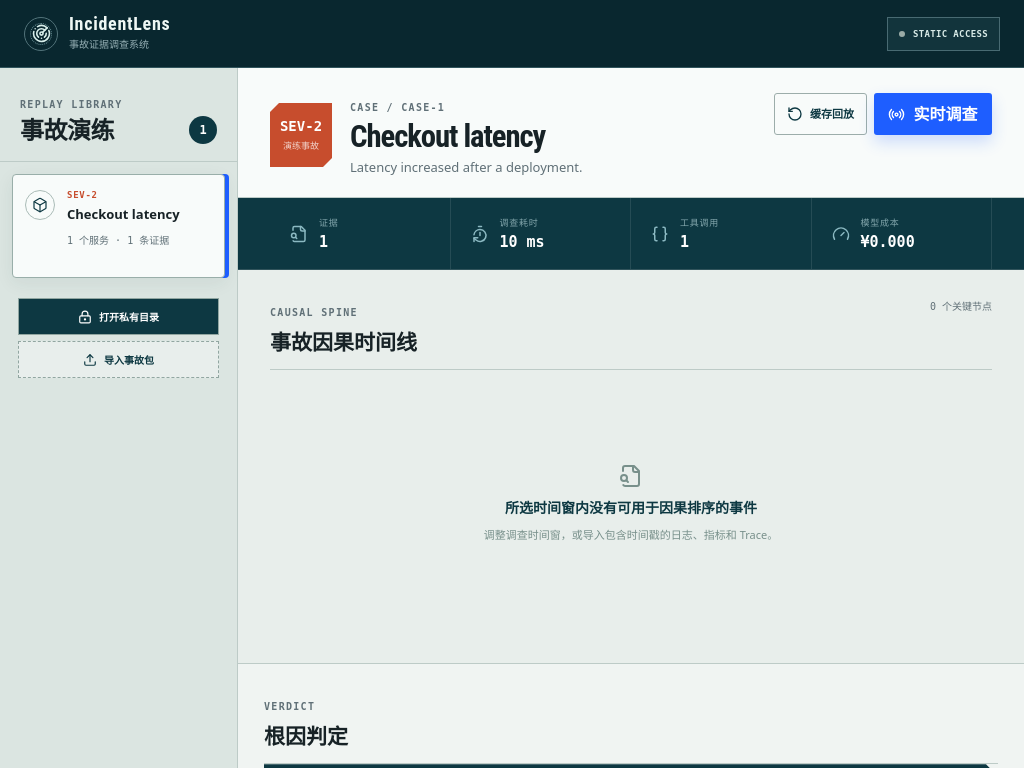
it: AppShell › loads private incidents only after an explicit catalog unlock
Expected: the heading "Checkout latency" is shown, [350, 118, 545, 155]
Expected: the text "Private production incident" is not shown
Click the button "打开私有目录".
click(118, 316)  # box [18, 298, 219, 335]
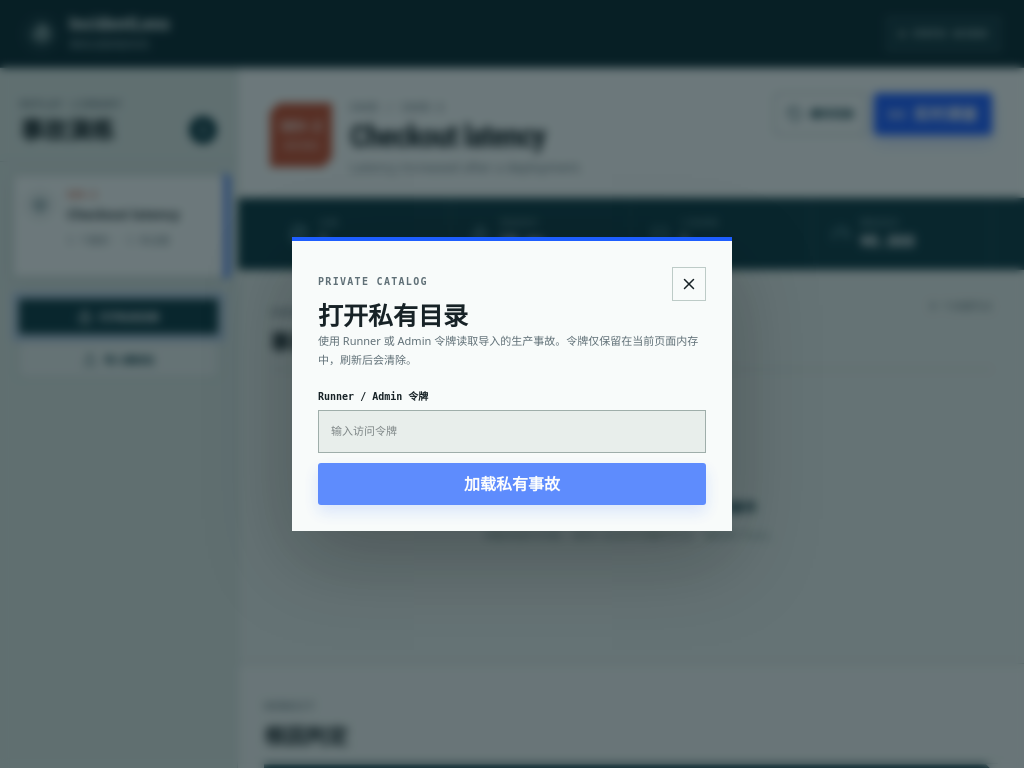
Type "runner-token" into the password field labelled "Runner / Admin 令牌".
click(512, 431); type("runner-token")  # box [318, 410, 706, 453]
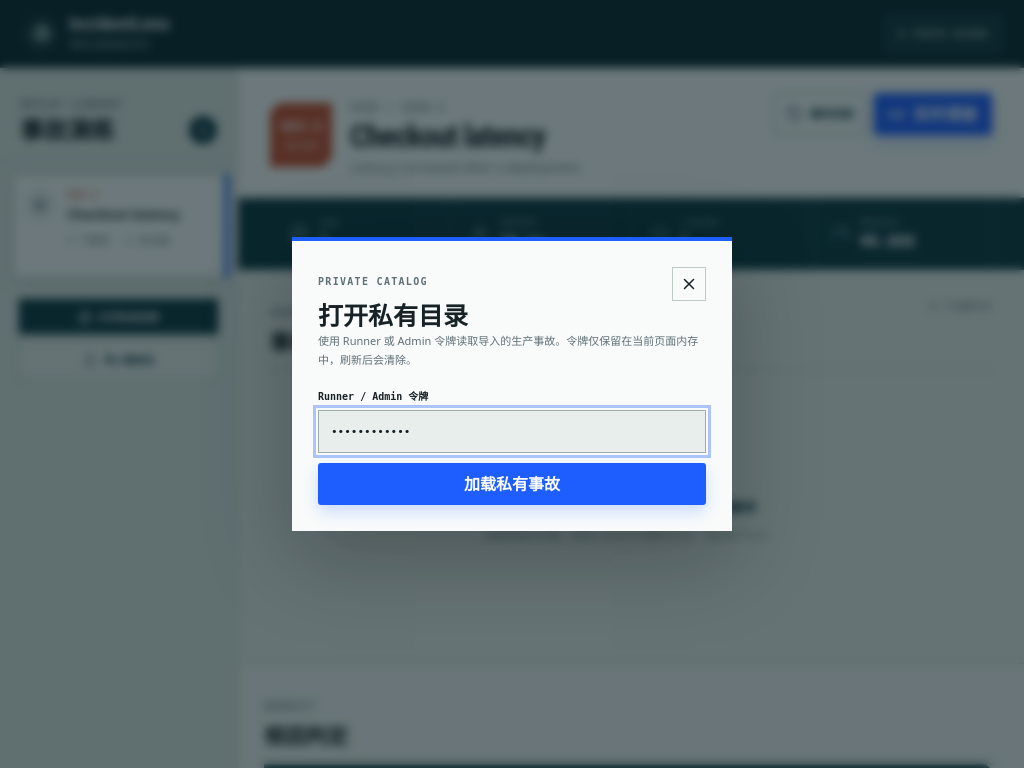
Click the button "加载私有事故".
click(512, 484)  # box [318, 463, 706, 505]
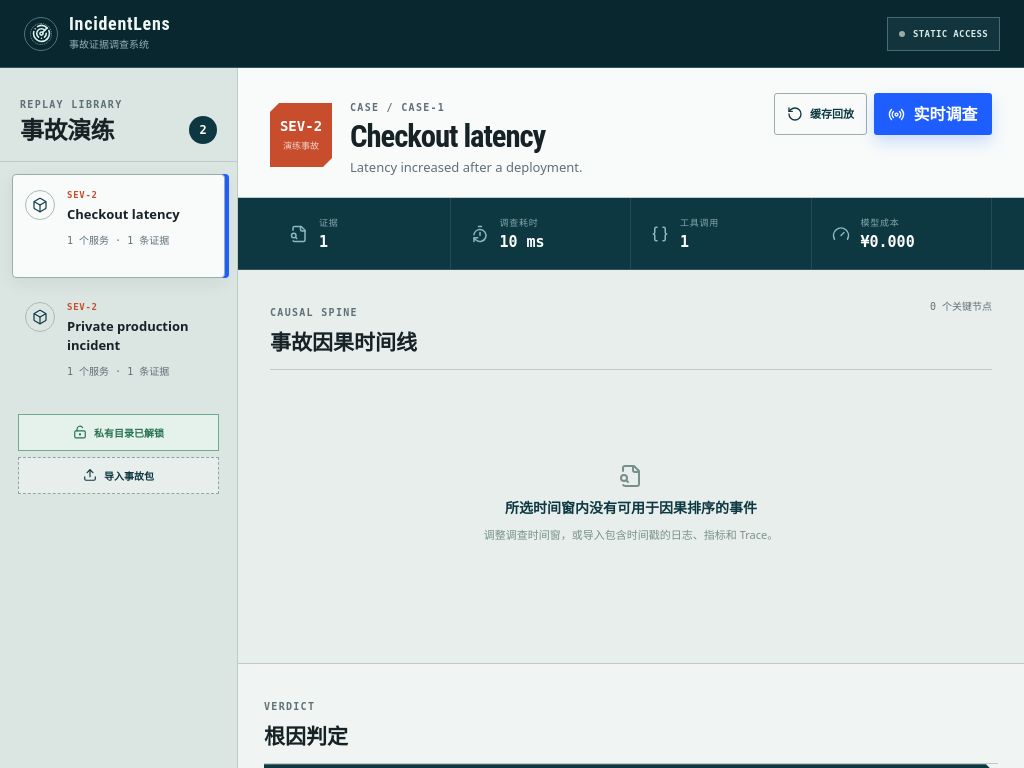
Expected: the text "Private production incident" is shown, [67, 317, 189, 354]
